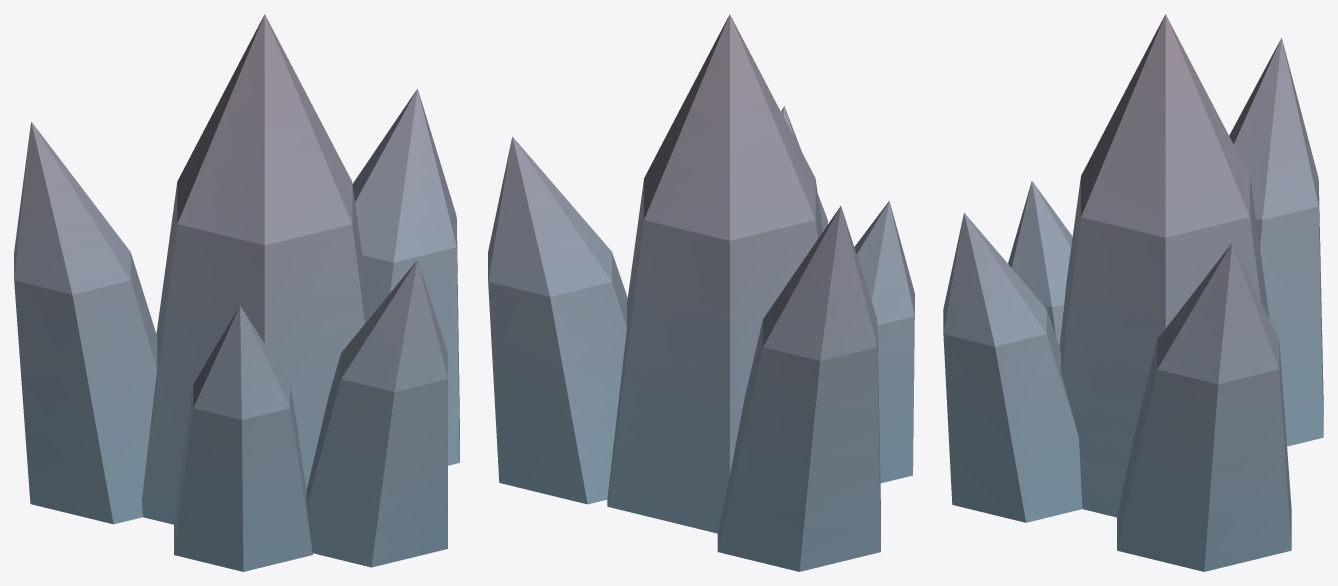
The model's file is Spore_Crystal.glb.
The picture shows the model from 3 angles, left to right: view 1: azimuth 30°, elevation 25°; view 2: azimuth 150°, elevation 25°; view 3: azimuth 270°, elevation 25°; orthographic projection. The views are drawn at different scales.
Parts seen in each view (by area): view 1: SporeCrystal; view 2: SporeCrystal; view 3: SporeCrystal.
Part boxes in pixels (x1=…): SporeCrystal: x1=14, y1=14, x2=459, y2=571; SporeCrystal: x1=488, y1=14, x2=914, y2=571; SporeCrystal: x1=943, y1=14, x2=1323, y2=571.
Bounding box in the file's own units: 0.605 × 0.67 × 0.4906.
